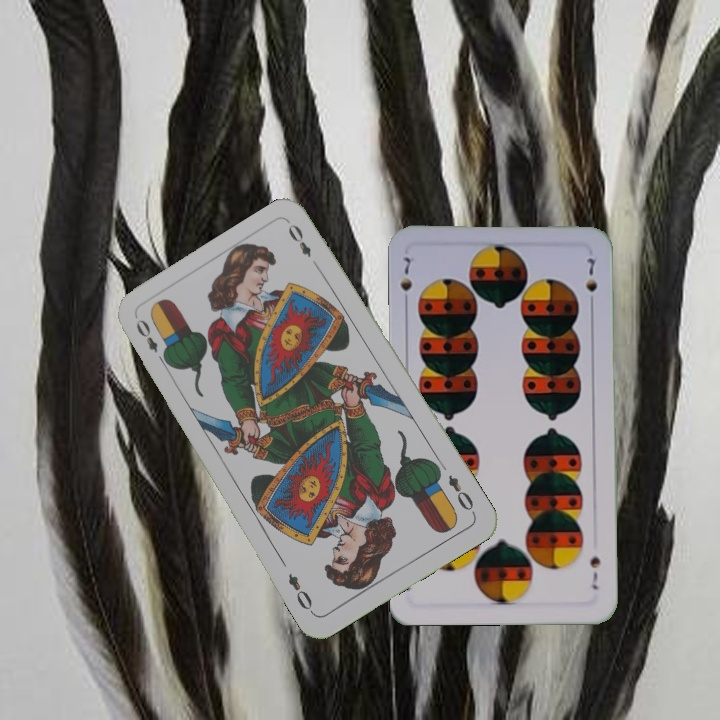EO: (131, 315, 170, 368), (444, 470, 478, 517)
S7: (396, 253, 415, 309), (586, 552, 603, 592)
